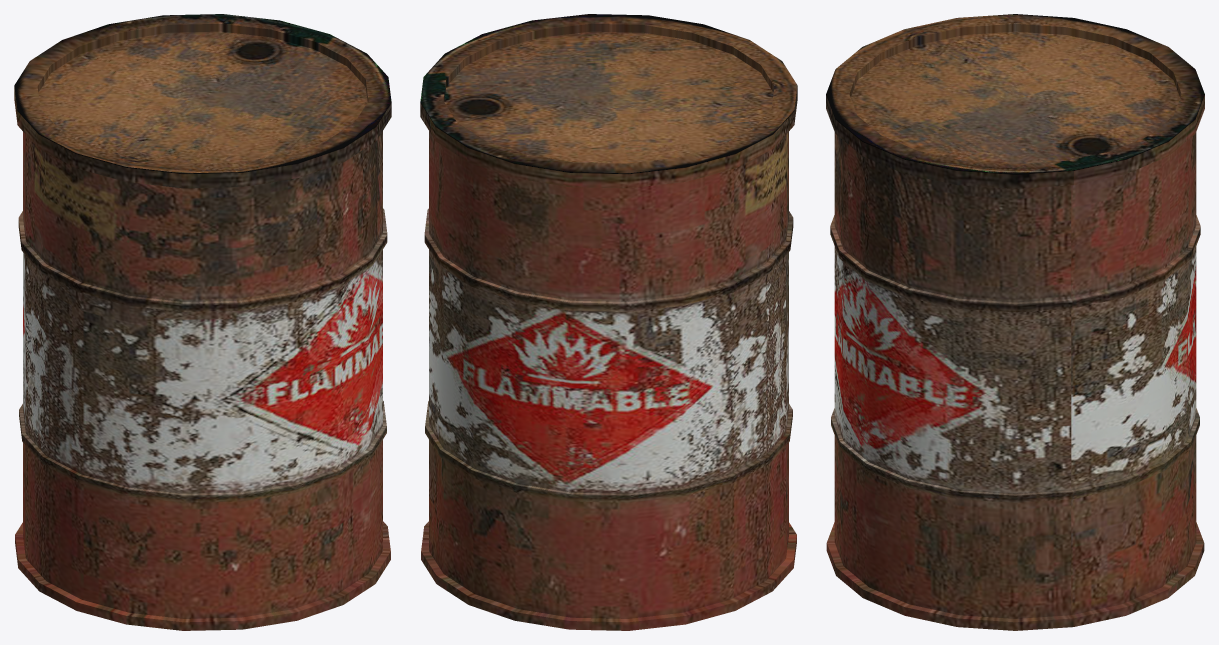
Rendered from oil drum.fbx.
The picture shows the model from 3 angles, left to right: view 1: azimuth 30°, elevation 25°; view 2: azimuth 150°, elevation 25°; view 3: azimuth 270°, elevation 25°; orthographic projection.
Parts seen in each view (by area): view 1: drum_oil; view 2: drum_oil; view 3: drum_oil.
Boxes of the visible parts, box(x1,y1,x2,y2) form: drum_oil: box(14, 14, 391, 630); drum_oil: box(420, 14, 797, 630); drum_oil: box(826, 14, 1204, 630).
Bounding box in the file's own units: 6.49 × 8.65 × 6.49.
Materials: 1 (1 with a texture image).
